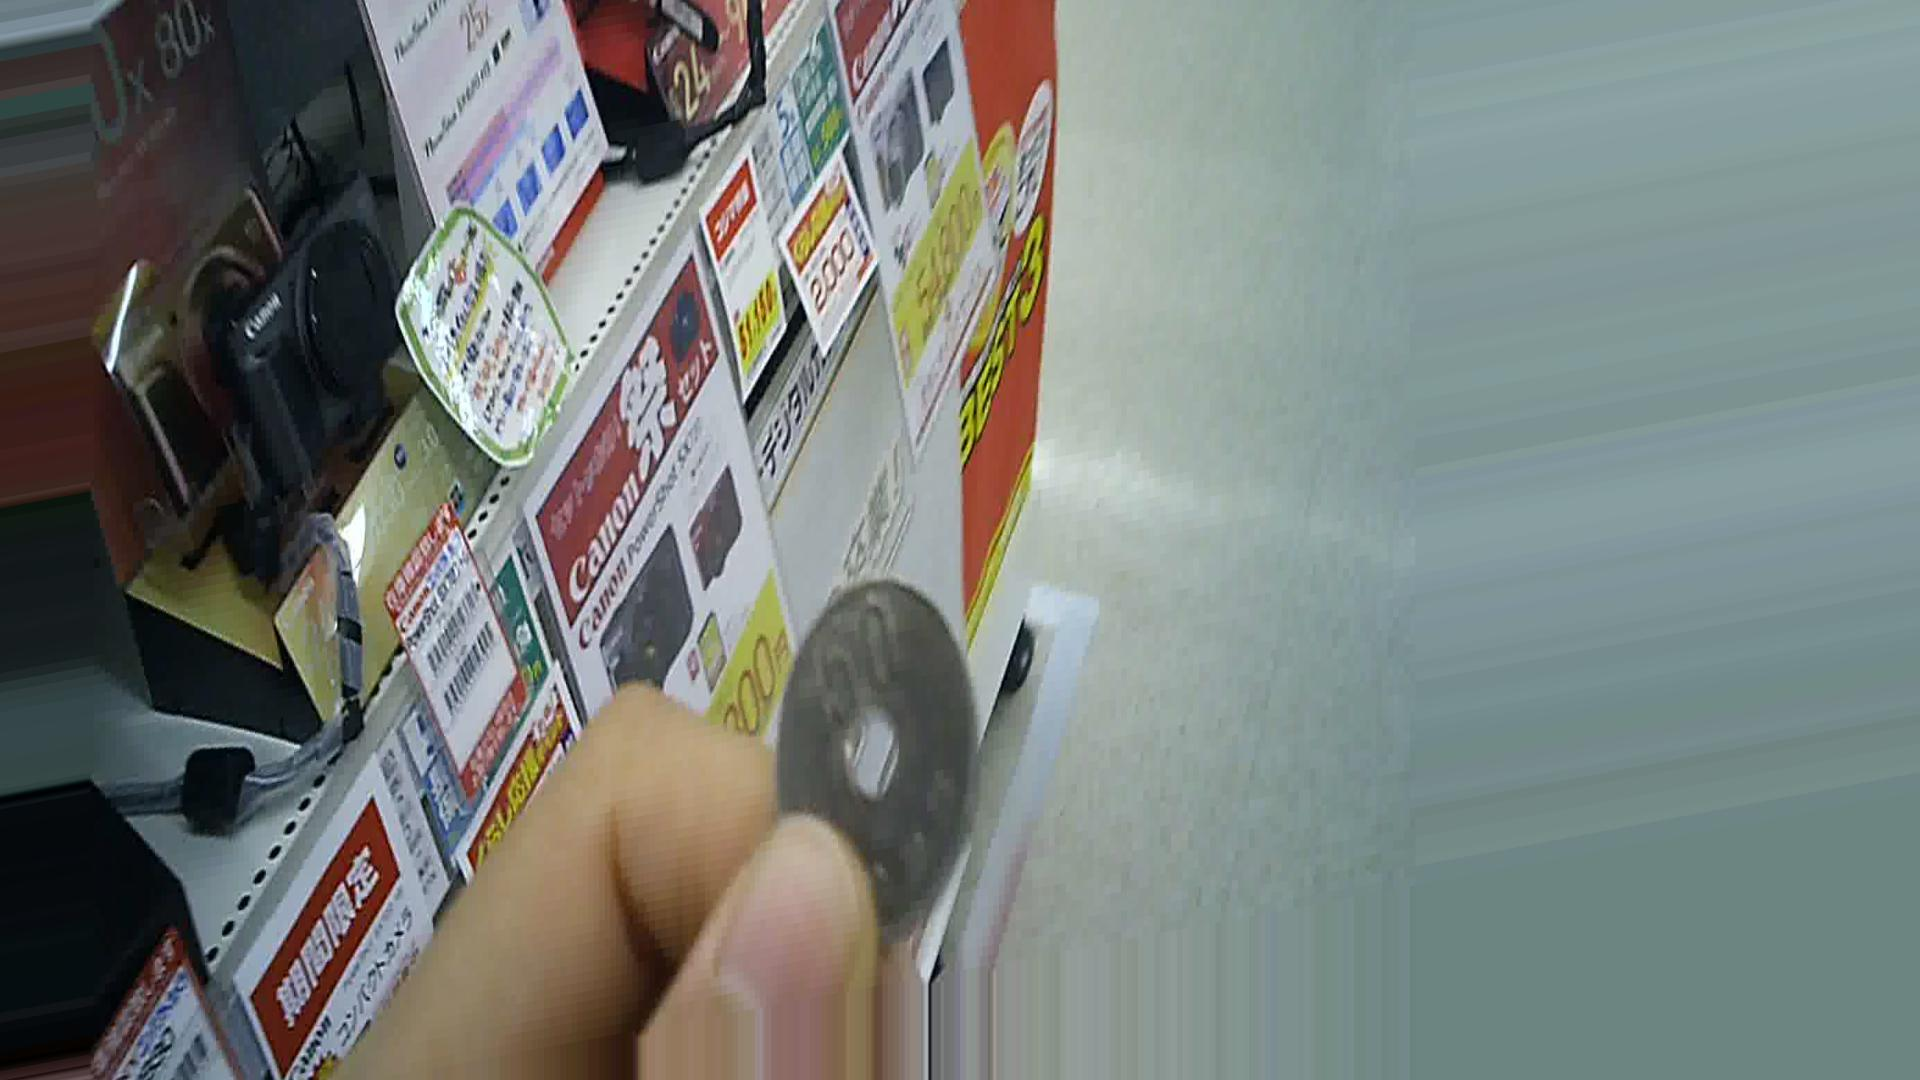50 Yen: (771, 584, 993, 906)
